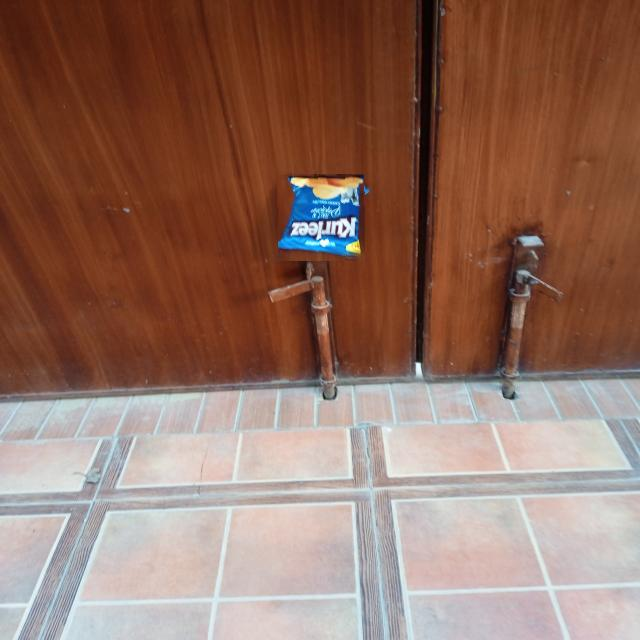Plastic: (278, 174, 366, 261)
